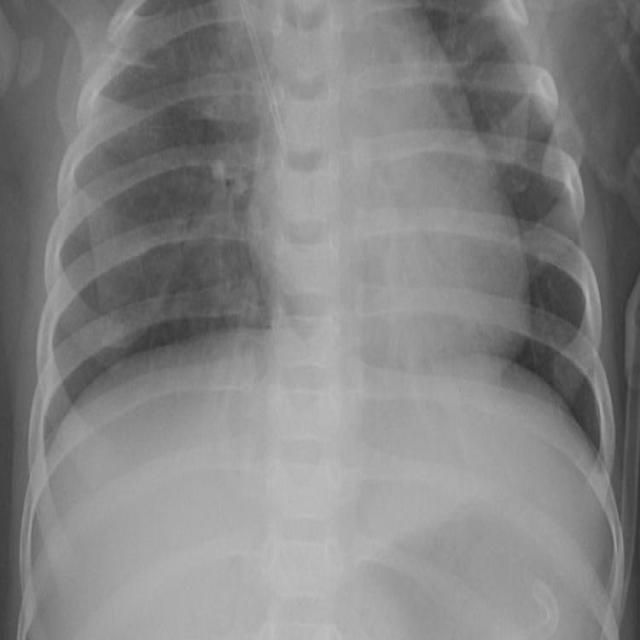low-pneumonia: (188, 8, 261, 226), (193, 234, 270, 325), (484, 75, 536, 189)
